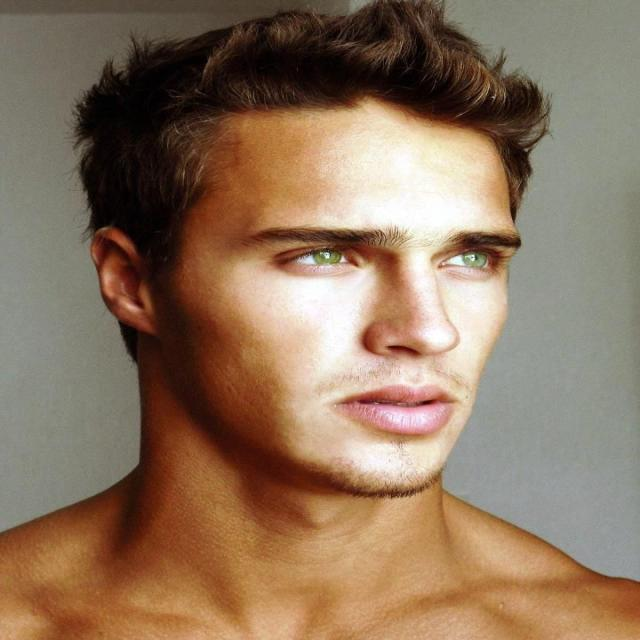front: (218, 172, 553, 458)
